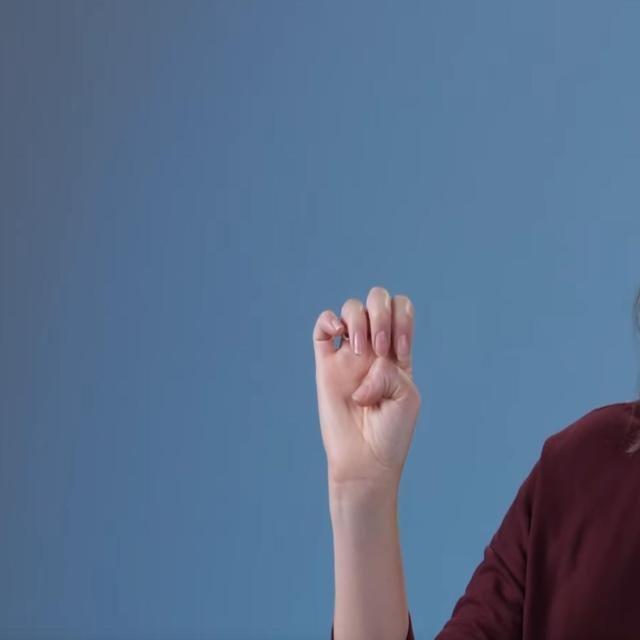E: (308, 282, 422, 486)
